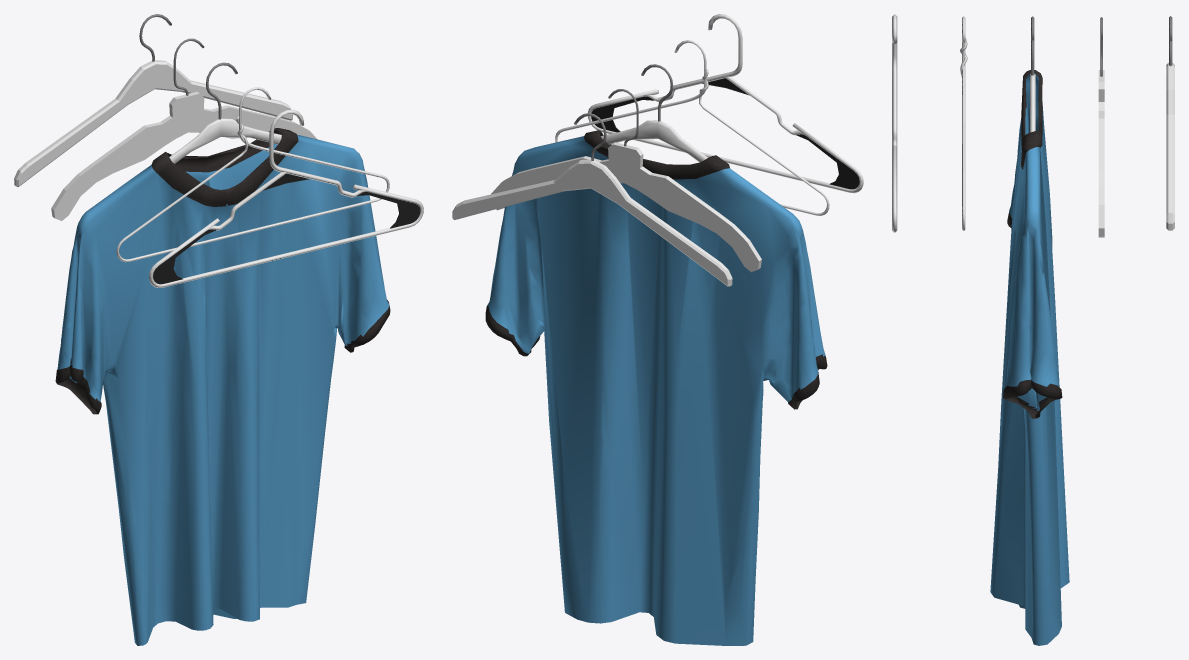
File: ropa_1.fbx
3 renders of one model, left to right at view 1: azimuth 30°, elevation 25°; view 2: azimuth 150°, elevation 25°; view 3: azimuth 270°, elevation 25°, orthographic. The views are drawn at different scales.
Visible parts, largest first — view 1: TeeShirt_Plane.007, Plane.003_Plane, Plane.007_Plane.002, BezierCurve.009_Plastic_Hanger.001, BezierCurve.010_Metal_Hook.001, Plane.006_Plane.001, Plane.010; view 2: TeeShirt_Plane.007, Plane.003_Plane, Plane.007_Plane.002, BezierCurve.009_Plastic_Hanger.001, BezierCurve.010_Metal_Hook.001, Plane.006_Plane.001, Plane.010; view 3: TeeShirt_Plane.007, Plane.007_Plane.002, BezierCurve.009_Plastic_Hanger.001, Plane.003_Plane, BezierCurve.010_Metal_Hook.001.
Boxes of the visible parts, x1,y1,x2,y2 form: TeeShirt_Plane.007: (55,128,390,645); Plane.003_Plane: (51,91,316,220); Plane.007_Plane.002: (14,60,292,186); BezierCurve.009_Plastic_Hanger.001: (149,109,423,287); BezierCurve.010_Metal_Hook.001: (116,87,389,262); Plane.006_Plane.001: (153,173,420,284); Plane.010: (169,118,281,163); TeeShirt_Plane.007: (485,130,827,645); Plane.003_Plane: (491,142,761,272); Plane.007_Plane.002: (452,159,732,286); BezierCurve.009_Plastic_Hanger.001: (588,14,863,193); BezierCurve.010_Metal_Hook.001: (555,40,829,215); Plane.006_Plane.001: (591,78,859,189); Plane.010: (601,120,707,162); TeeShirt_Plane.007: (990,70,1069,645); Plane.007_Plane.002: (1166,62,1174,230); BezierCurve.009_Plastic_Hanger.001: (892,14,897,232); Plane.003_Plane: (1098,70,1104,237); BezierCurve.010_Metal_Hook.001: (960,16,967,230).
Size of the model in its own units: 568 by 936 by 410.
4 materials, 1 textured.
